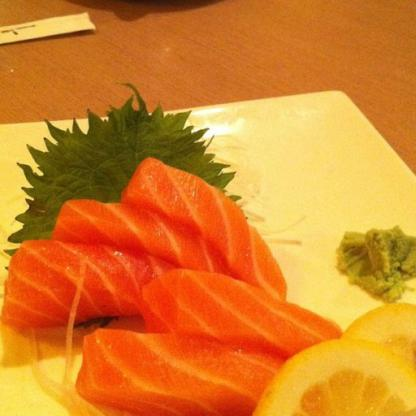salmon: (125, 158, 287, 306), (77, 328, 290, 416), (146, 272, 342, 366), (1, 244, 188, 324), (57, 197, 225, 273)
